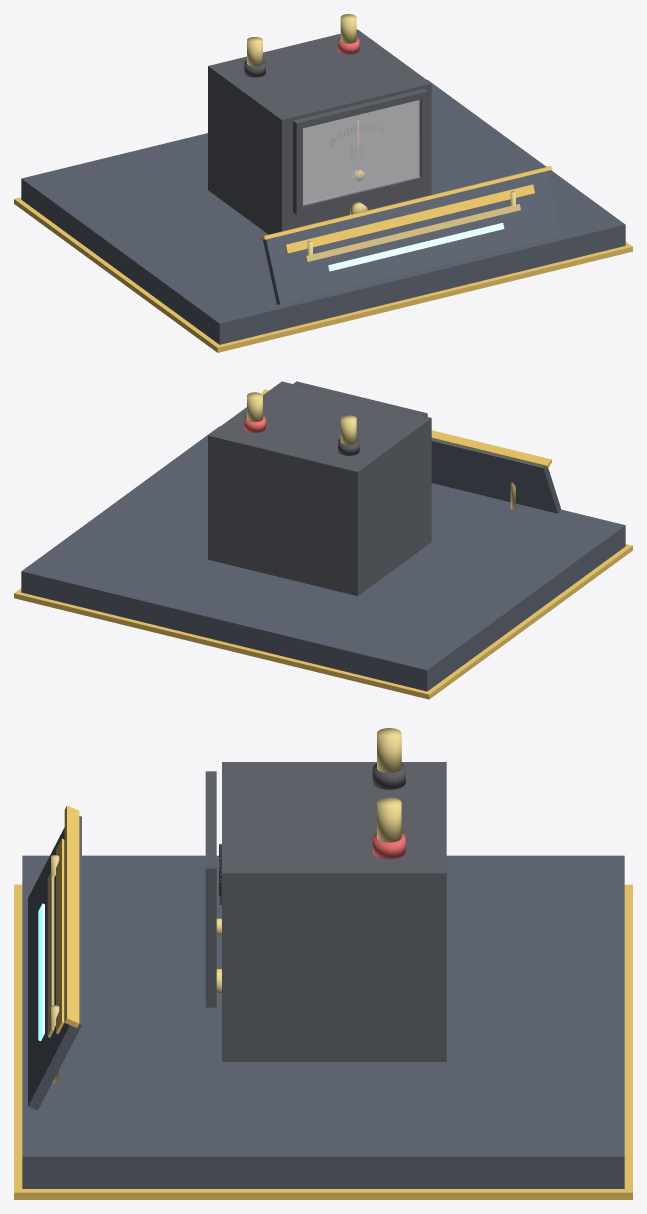
File: ammeter.glb
3 views of the same model, one above another, from view 1: azimuth 30°, elevation 25°; view 2: azimuth 150°, elevation 25°; view 3: azimuth 270°, elevation 25° (orthographic). The views are drawn at different scales.
Visible parts, largest first — view 1: amm_full_plinth, amm_full_casing, amm_sec_plaque_face, amm_full_glass, amm_sec_glass, amm_full_plinth_rim, amm_sec_title_bar, amm_sec_sub1, amm_full_frame_top, amm_sec_plaque_trim, amm_full_frame_bot, amm_sec_sub2 (+4 smaller); view 2: amm_full_plinth, amm_full_casing, amm_sec_plaque_face, amm_full_plinth_rim, amm_sec_plaque_trim, amm_full_frame_top, amm_sec_case_back, amm_full_post_neg, amm_full_post_pos, amm_sec_case_base; view 3: amm_full_plinth, amm_full_casing, amm_full_plinth_rim, amm_sec_plaque_face, amm_sec_plaque_trim, amm_sec_case_base, amm_sec_case_back, amm_sec_title_bar, amm_full_frame_r, amm_full_frame_top, amm_sec_sub1, amm_full_post_pos (+2 smaller).
Part boxes in pixels (<box>): amm_full_plinth: <box>21,79,625,344</box>; amm_full_casing: <box>208,30,431,234</box>; amm_sec_plaque_face: <box>263,171,560,304</box>; amm_full_glass: <box>303,100,419,205</box>; amm_sec_glass: <box>303,100,419,204</box>; amm_full_plinth_rim: <box>14,197,632,352</box>; amm_sec_title_bar: <box>285,184,534,253</box>; amm_sec_sub1: <box>305,204,520,261</box>; amm_full_frame_top: <box>293,89,427,129</box>; amm_sec_plaque_trim: <box>260,166,552,240</box>; amm_full_frame_bot: <box>293,175,427,214</box>; amm_sec_sub2: <box>328,223,504,271</box>; amm_full_plinth: <box>21,426,625,691</box>; amm_full_casing: <box>208,381,431,595</box>; amm_sec_plaque_face: <box>431,439,560,513</box>; amm_full_plinth_rim: <box>14,544,632,699</box>; amm_sec_plaque_trim: <box>261,389,552,467</box>; amm_full_frame_top: <box>293,381,427,416</box>; amm_sec_case_back: <box>222,438,362,532</box>; amm_full_post_neg: <box>340,415,356,444</box>; amm_full_post_pos: <box>247,392,262,421</box>; amm_sec_case_base: <box>208,533,430,595</box>; amm_full_plinth: <box>22,855,624,1188</box>; amm_full_casing: <box>222,762,446,1060</box>; amm_full_plinth_rim: <box>14,884,632,1199</box>; amm_sec_plaque_face: <box>28,816,81,1110</box>; amm_sec_plaque_trim: <box>64,805,79,1027</box>; amm_sec_case_base: <box>222,1047,446,1061</box>; amm_sec_case_back: <box>430,762,446,1061</box>; amm_sec_title_bar: <box>56,838,64,1033</box>; amm_full_frame_r: <box>205,878,216,997</box>; amm_full_frame_top: <box>205,771,216,878</box>; amm_sec_sub1: <box>47,872,54,1037</box>; amm_full_post_pos: <box>377,797,401,842</box>.
Bounding box in the file's own units: 0.266 × 0.112 × 0.226.
